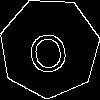O: (24, 23, 70, 75)
